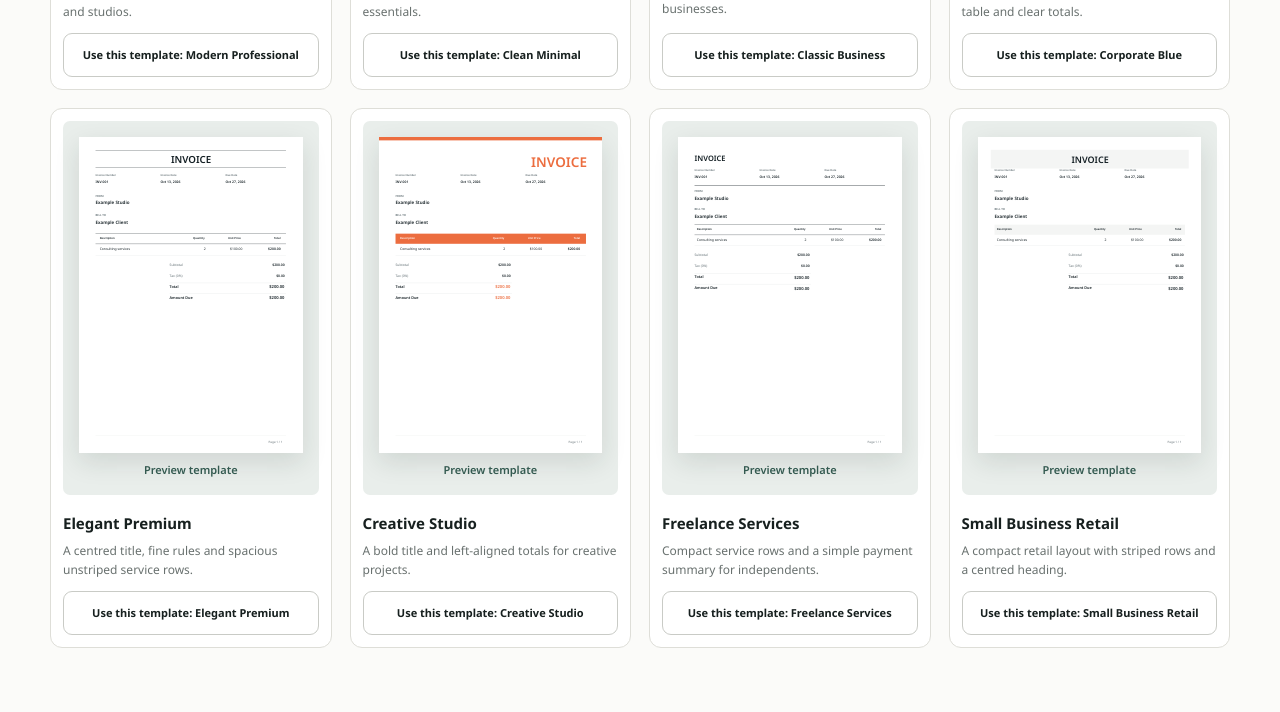
Test: visual invoice workflow › selects freelance before asking for personal details
The width and height of the screenshot is (1280, 712).
(page scrolled)
expect the button "Business or full name" is not shown: met
Step 1. Click the button "Use this template: Freelance Services" → (790, 613), box [662, 591, 918, 635]
(page scrolled)
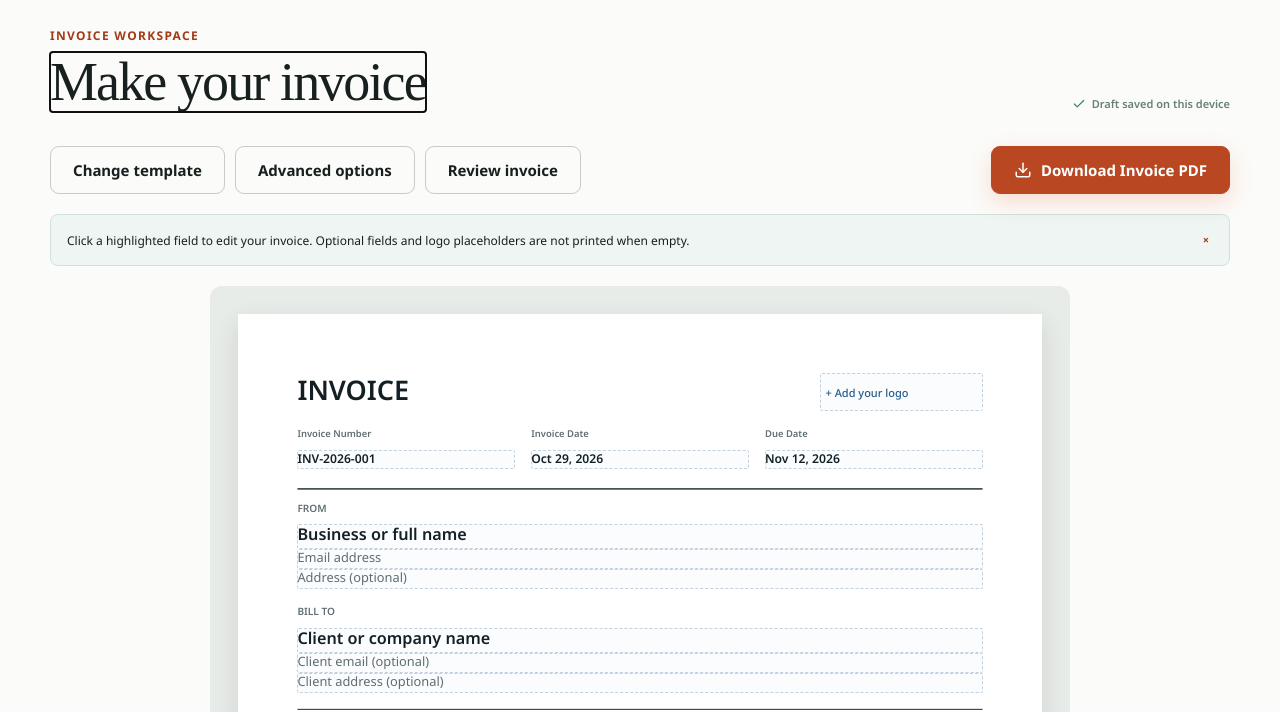
expect the button named "Business or full name" is shown: met, box [297, 524, 982, 549]
